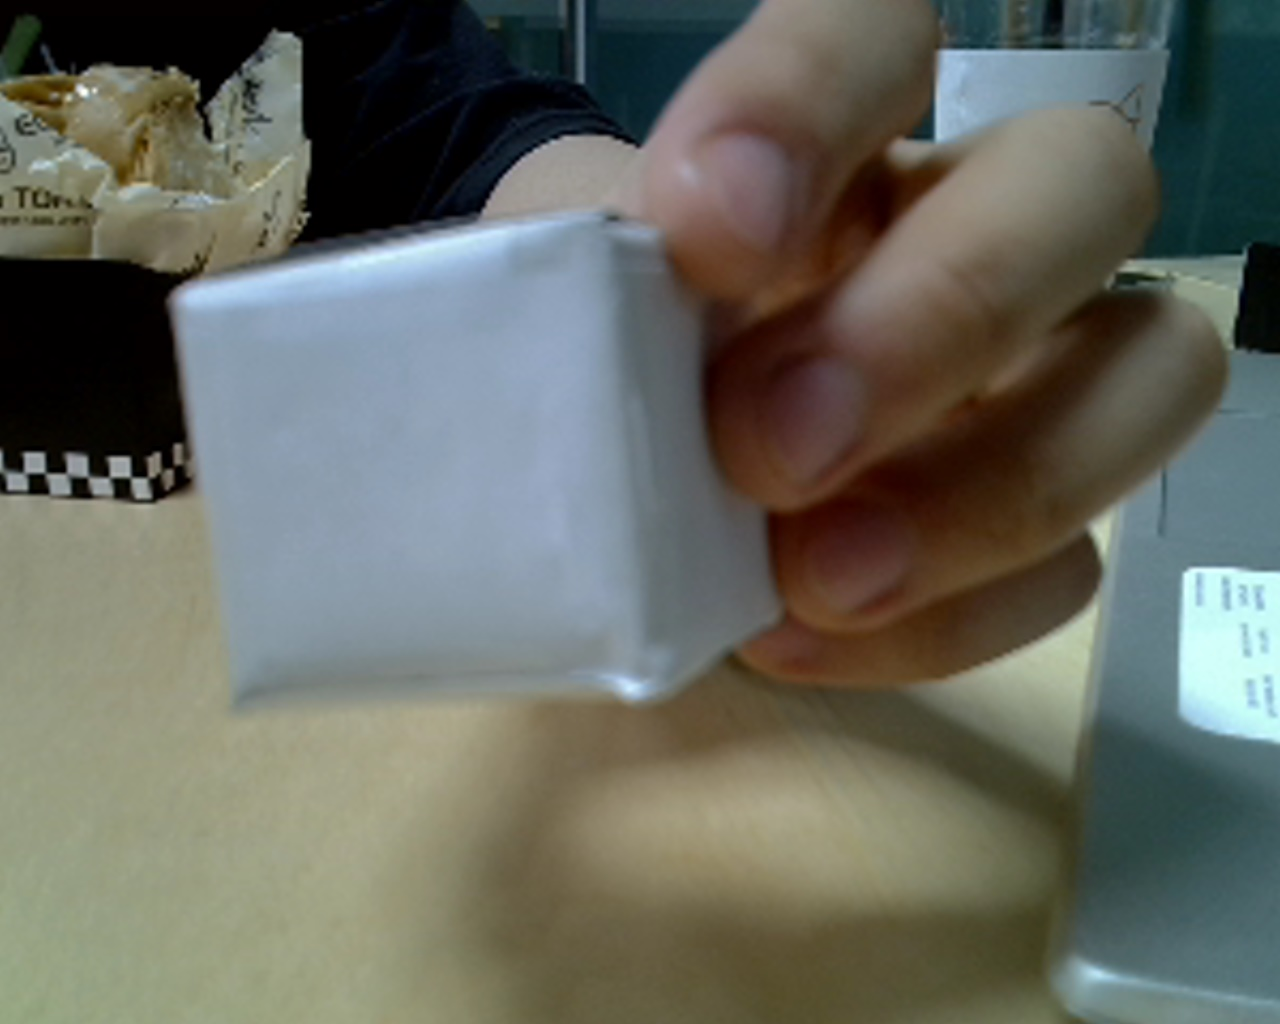whitebox: (156, 195, 831, 754)
